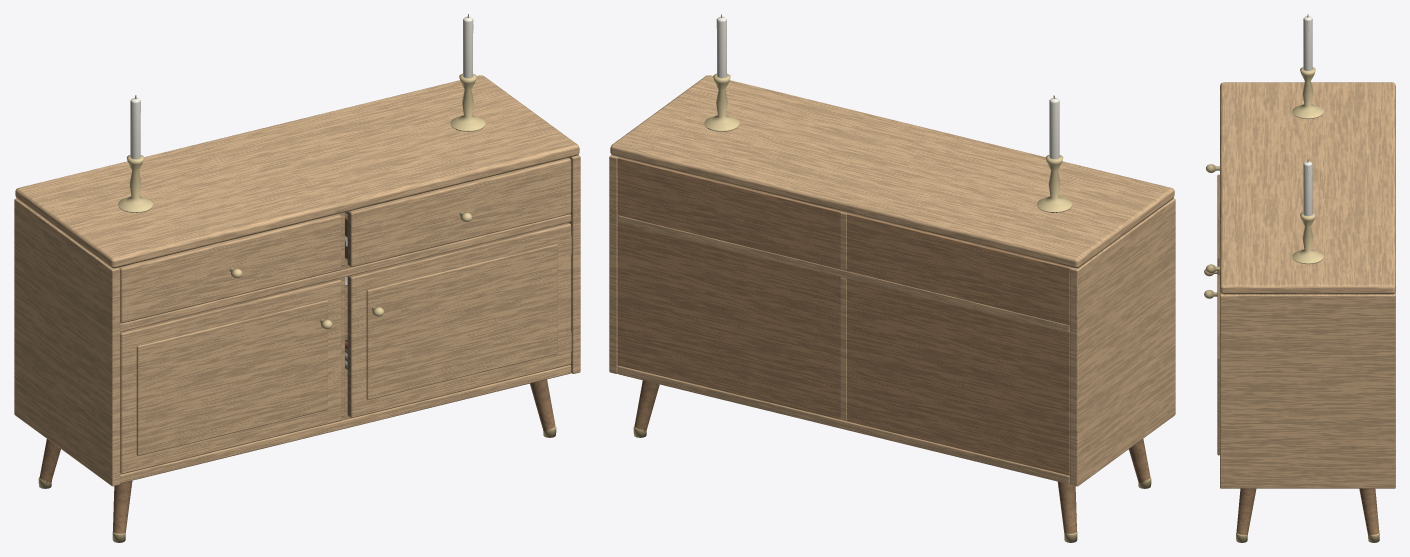
Rendered from int_aparador.glb.
The picture shows the model from 3 angles, left to right: view 1: azimuth 30°, elevation 25°; view 2: azimuth 150°, elevation 25°; view 3: azimuth 270°, elevation 25°; orthographic projection. The views are drawn at different scales.
Parts seen in each view (by area): view 1: corpo, porta_D, porta_E, gaveta_D, gaveta_E; view 2: corpo; view 3: corpo, porta_D, porta_E.
Part boxes in pixels (<box>): corpo: <box>14,14,580,542</box>; porta_D: <box>347,222,571,417</box>; porta_E: <box>120,278,341,473</box>; gaveta_D: <box>345,158,571,267</box>; gaveta_E: <box>119,214,341,323</box>; corpo: <box>609,14,1175,542</box>; corpo: <box>1220,14,1395,542</box>; porta_D: <box>1204,274,1219,455</box>; porta_E: <box>1204,174,1219,276</box>.
Bounding box in the file's own units: 1.1 × 0.9076 × 0.436.
Materials: 5 (5 with a texture image).
